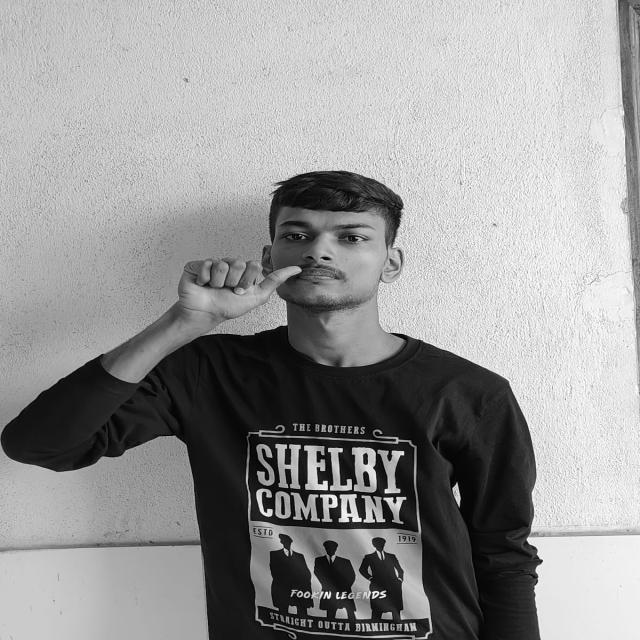Drink: (175, 258, 302, 317)
